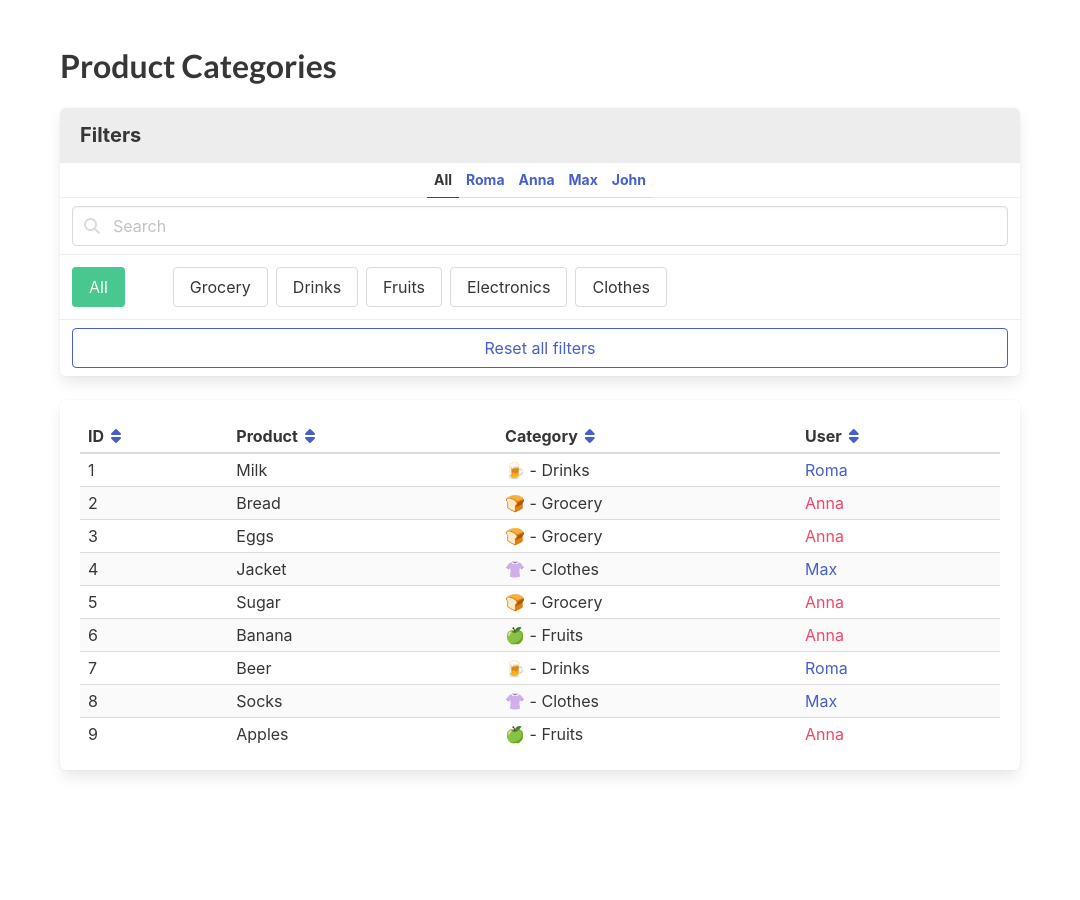
Test: Filter by owner › should allow to select another user
Step 1. Click the link with test id "FilterUser" showing "Anna" → (537, 181), box 512,163 -> 562,198
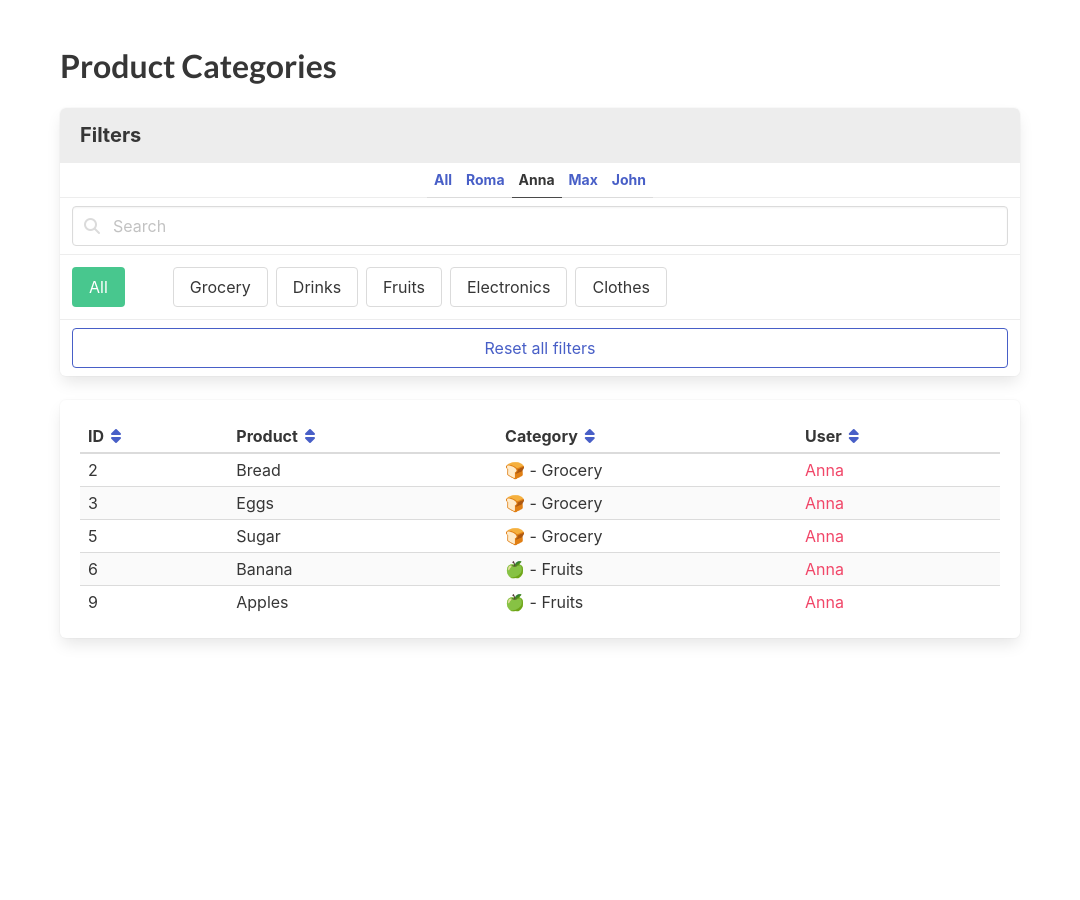
Check: the cell with test id "ProductName" reads "Bread", box 228,453 -> 497,487
Check: the number of rows with test id "Product" is 5, box 80,453 -> 1000,486; 80,486 -> 1000,520; 80,520 -> 1000,552; 80,552 -> 1000,586; 80,586 -> 1000,618
